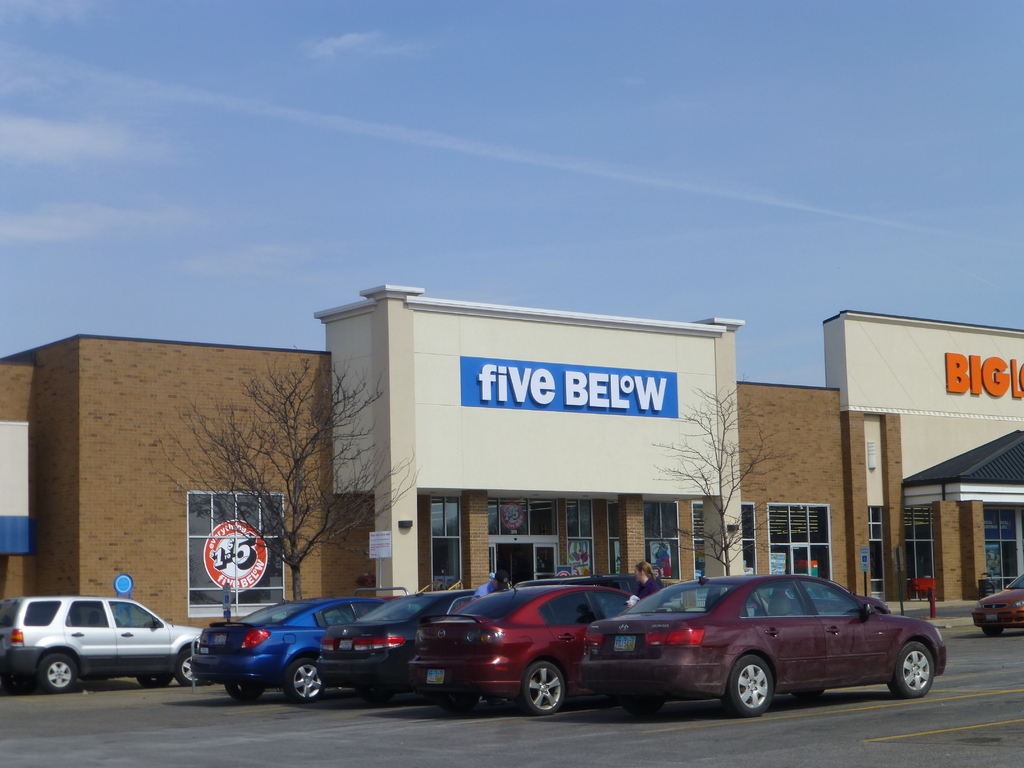Car: (0, 574, 946, 721), (582, 573, 948, 716), (410, 582, 640, 714), (190, 600, 386, 705), (313, 588, 480, 701), (0, 597, 202, 690), (968, 571, 1023, 638)
